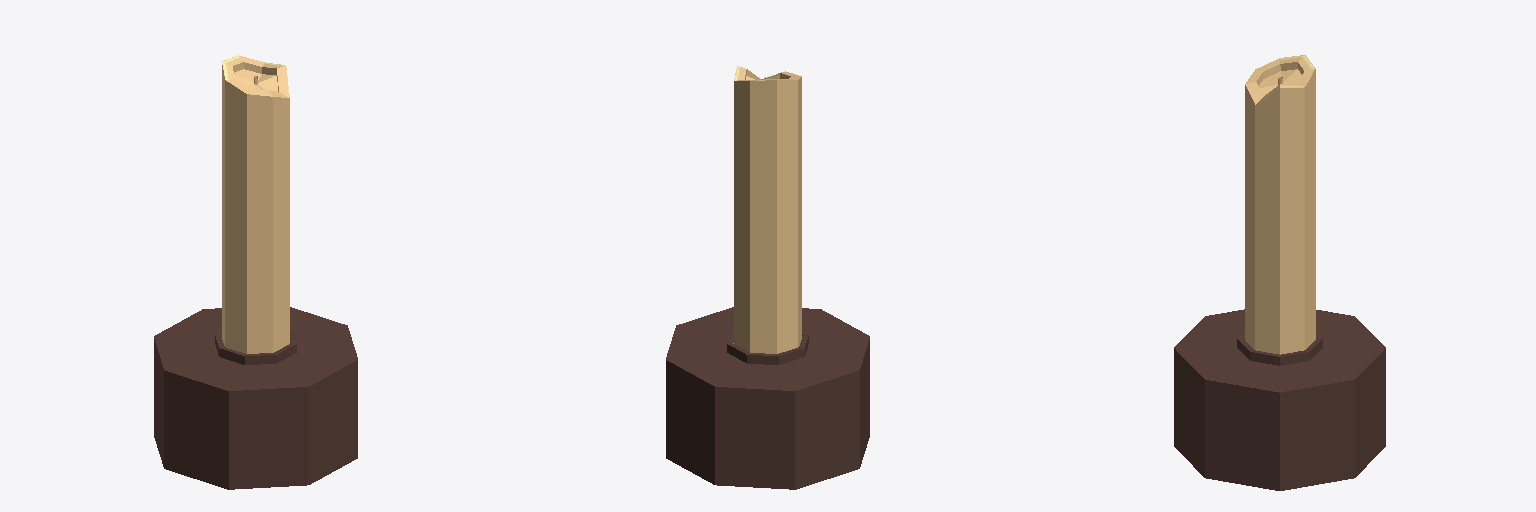
3 renders of one model, left to right at view 1: azimuth 30°, elevation 25°; view 2: azimuth 150°, elevation 25°; view 3: azimuth 270°, elevation 25°, orthographic.
Visible parts, largest first — view 1: candle_holder_Cylinder.043_None, candle.002_Cylinder.042_None; view 2: candle_holder_Cylinder.043_None, candle.002_Cylinder.042_None; view 3: candle_holder_Cylinder.043_None, candle.002_Cylinder.042_None.
Boxes of the visible parts, <box> form: candle_holder_Cylinder.043_None: <box>154,307,357,489</box>; candle.002_Cylinder.042_None: <box>222,55,289,353</box>; candle_holder_Cylinder.043_None: <box>666,307,869,489</box>; candle.002_Cylinder.042_None: <box>734,66,801,353</box>; candle_holder_Cylinder.043_None: <box>1174,309,1385,490</box>; candle.002_Cylinder.042_None: <box>1245,55,1315,354</box>.
Size of the model in its own units: 0.093 by 0.1845 by 0.093.
Materials: 1 (1 with a texture image).